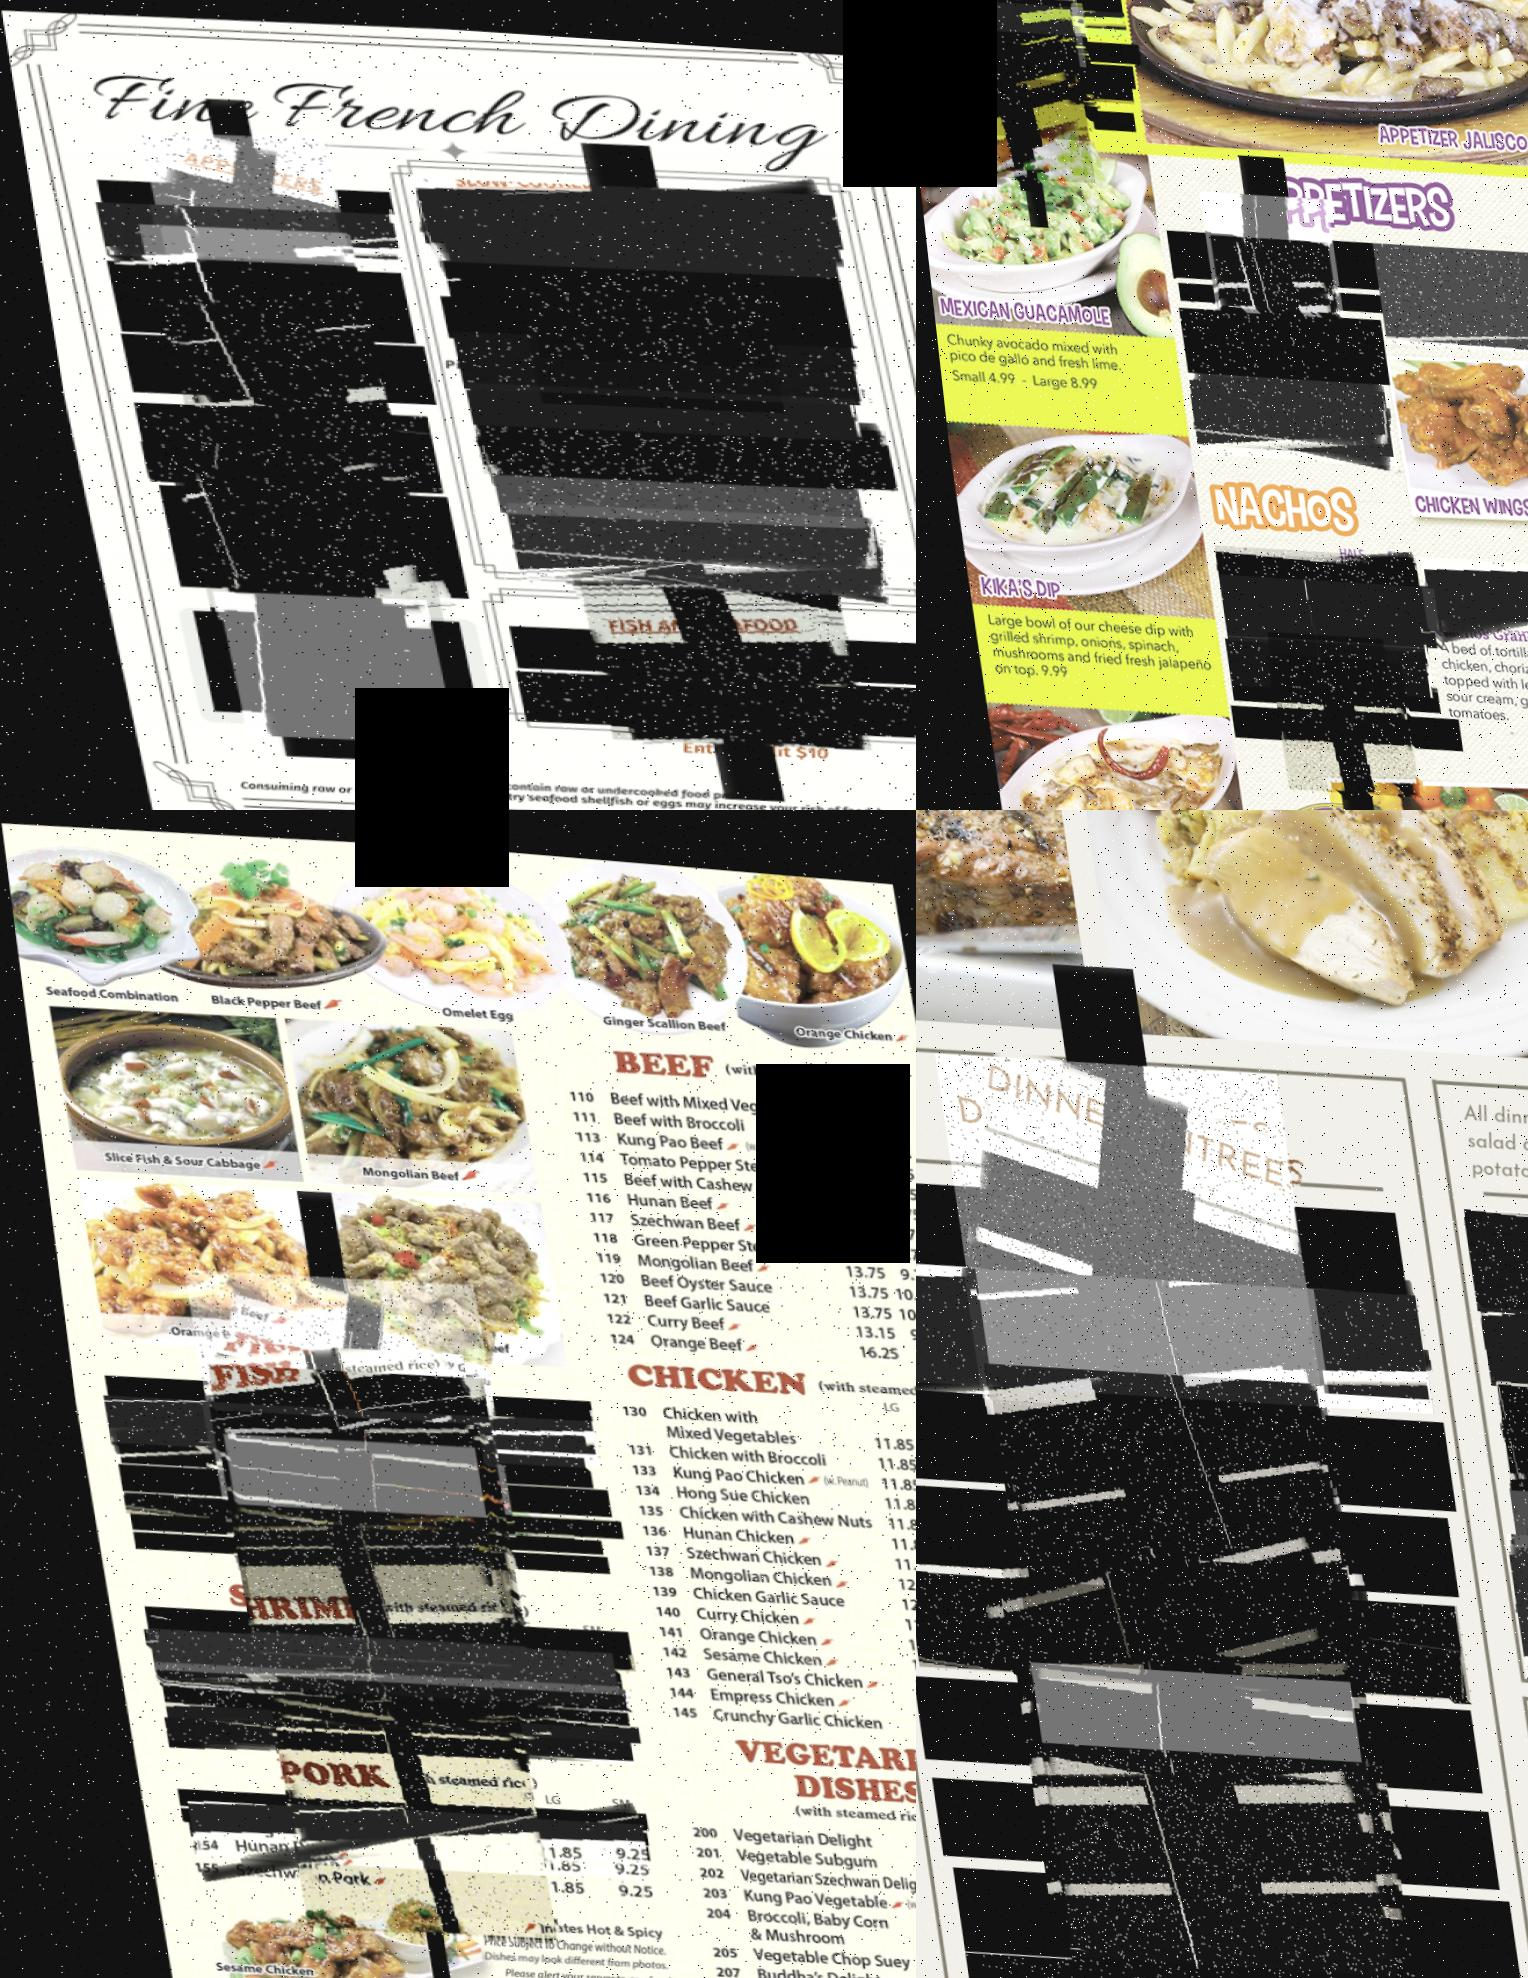Menu-Items: (965, 1530, 1359, 1922), (916, 1035, 1302, 1420), (952, 1251, 1334, 1630), (960, 1346, 1334, 1717), (995, 1644, 1359, 1978), (1002, 1725, 1390, 1978), (170, 1259, 498, 1538), (916, 1238, 1409, 1418), (916, 1550, 1441, 1708), (193, 1354, 502, 1620), (213, 1495, 523, 1760), (197, 1400, 501, 1660), (191, 1330, 488, 1585), (210, 1426, 496, 1672), (246, 1684, 528, 1927), (247, 1702, 528, 1943), (555, 549, 847, 746), (404, 164, 844, 282), (498, 180, 770, 364), (87, 1381, 591, 1479), (502, 228, 772, 409), (162, 449, 430, 630), (159, 1787, 626, 1890), (125, 1614, 603, 1713), (488, 488, 883, 597), (456, 399, 884, 494), (136, 1659, 610, 1744), (133, 220, 369, 380), (196, 584, 432, 744), (441, 316, 864, 404), (149, 287, 382, 444), (491, 656, 916, 738), (963, 555, 1201, 701), (138, 1704, 612, 1774), (104, 1479, 607, 1545), (122, 1615, 620, 1681), (133, 1651, 615, 1718), (119, 395, 429, 496), (162, 1843, 636, 1907), (135, 125, 343, 266), (453, 367, 857, 440), (140, 1689, 618, 1750), (156, 1827, 629, 1888), (475, 451, 851, 526), (921, 1928, 1481, 1978), (921, 284, 1141, 403), (88, 194, 403, 274), (595, 1380, 916, 1453), (1254, 645, 1404, 796), (931, 0, 1088, 144), (942, 39, 1093, 188), (1175, 361, 1385, 464), (1194, 181, 1340, 326), (1364, 228, 1528, 353), (551, 1062, 905, 1120), (563, 1144, 916, 1202), (575, 1246, 916, 1304), (1204, 563, 1427, 651), (551, 1084, 910, 1139), (560, 1107, 915, 1161), (592, 1304, 916, 1362), (1168, 295, 1380, 383), (568, 1166, 916, 1219), (571, 1226, 916, 1279), (571, 1205, 916, 1258), (571, 1186, 916, 1238), (602, 1457, 916, 1514), (669, 1882, 916, 1954), (579, 1266, 916, 1319), (945, 0, 1095, 119), (563, 1128, 913, 1177), (1205, 226, 1339, 356), (600, 1418, 916, 1473), (620, 1537, 916, 1595), (1254, 624, 1384, 754), (589, 1287, 916, 1338), (634, 1638, 916, 1697), (644, 1681, 916, 1742), (620, 1518, 916, 1572), (615, 1500, 916, 1553), (615, 1482, 916, 1535), (621, 1559, 916, 1612), (631, 1601, 916, 1656), (1207, 626, 1422, 695), (628, 1580, 916, 1631), (612, 1444, 916, 1492), (639, 1622, 916, 1673), (663, 1838, 916, 1895), (656, 1802, 916, 1854), (642, 1664, 916, 1713), (1417, 605, 1528, 727), (663, 1822, 916, 1874), (668, 1862, 916, 1914), (1199, 533, 1406, 592), (673, 1923, 916, 1973), (1404, 539, 1528, 637), (925, 0, 1083, 72), (916, 0, 1125, 47), (916, 66, 1132, 111), (674, 1939, 916, 1978)
